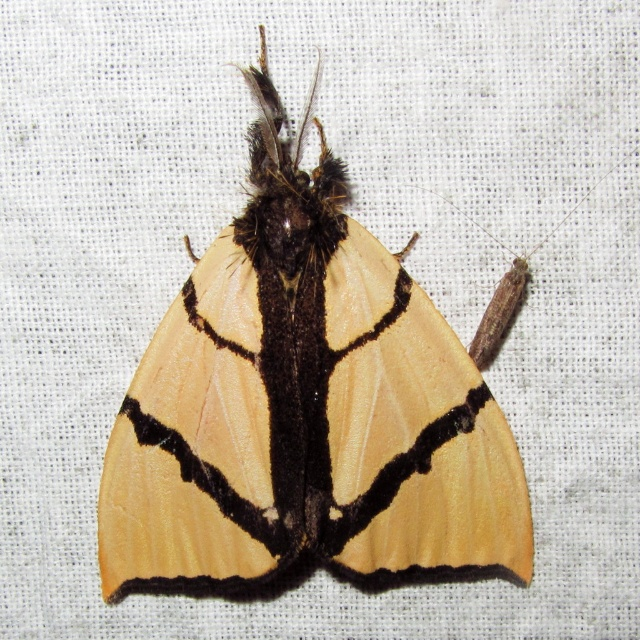Butterfly: (108, 31, 476, 593)
